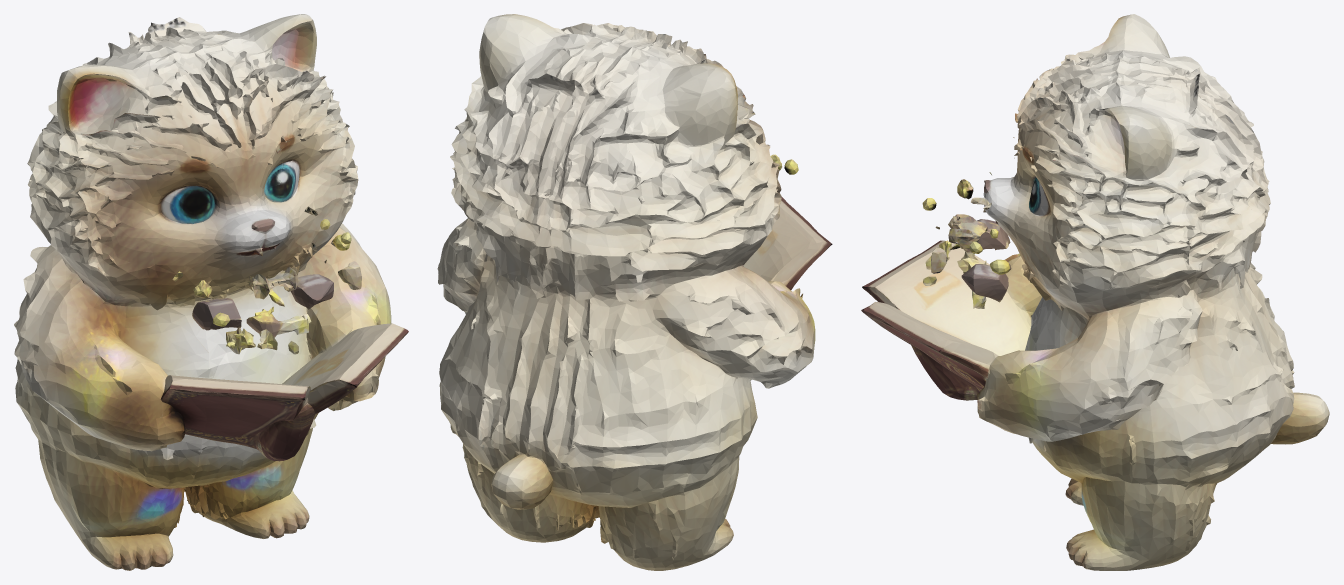
Rendered from cute.glb.
The picture shows the model from 3 angles, left to right: view 1: azimuth 30°, elevation 25°; view 2: azimuth 150°, elevation 25°; view 3: azimuth 270°, elevation 25°; orthographic projection. The views are drawn at different scales.
Visible parts, largest first — view 1: world; view 2: world; view 3: world.
Part boxes in pixels (bbox=[...]): world: bbox=[14, 14, 408, 570]; world: bbox=[437, 14, 832, 570]; world: bbox=[861, 14, 1329, 570].
Bounding box in the file's own units: 0.7602 × 0.9998 × 0.9236.
1 material, 1 textured.
